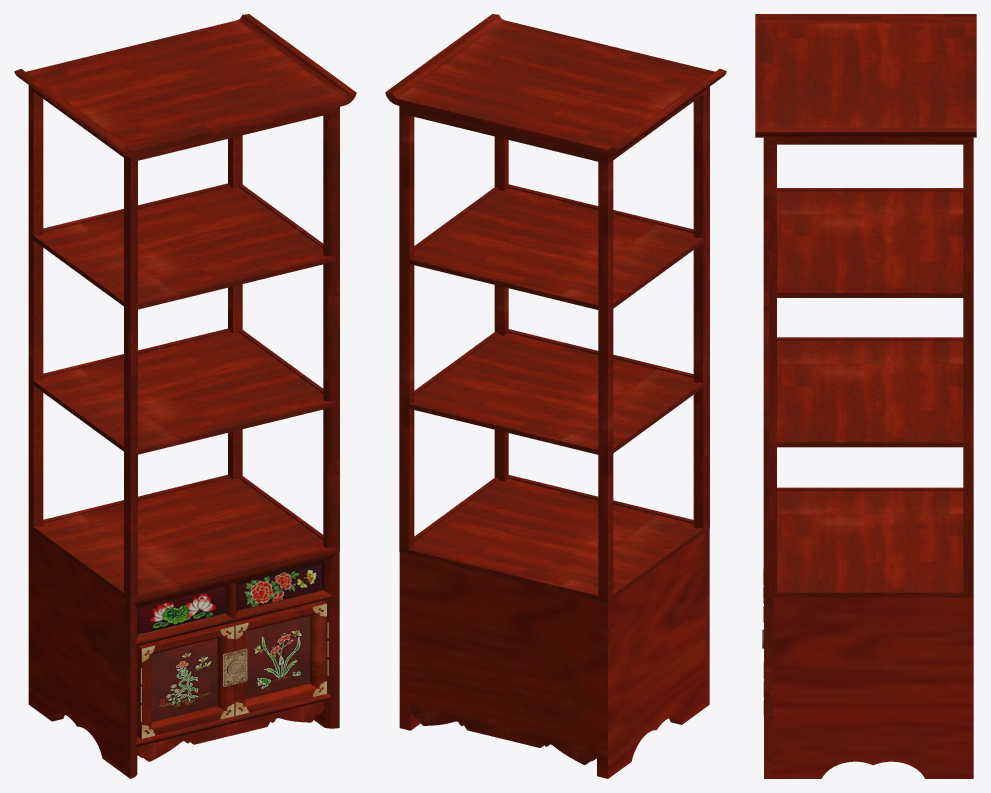
Rendered from Chiffonier_01.FBX.
3 views of the same model, side by side, from view 1: azimuth 30°, elevation 25°; view 2: azimuth 150°, elevation 25°; view 3: azimuth 270°, elevation 25° (orthographic). The views are drawn at different scales.
Visible parts, largest first — view 1: Chiffonier_01; view 2: Chiffonier_01; view 3: Chiffonier_01.
Part boxes in pixels (<box>): Chiffonier_01: <box>14,14,356,778</box>; Chiffonier_01: <box>385,14,726,778</box>; Chiffonier_01: <box>755,14,976,778</box>.
Bounding box in the file's own units: 52.19 × 135 × 41.31.
